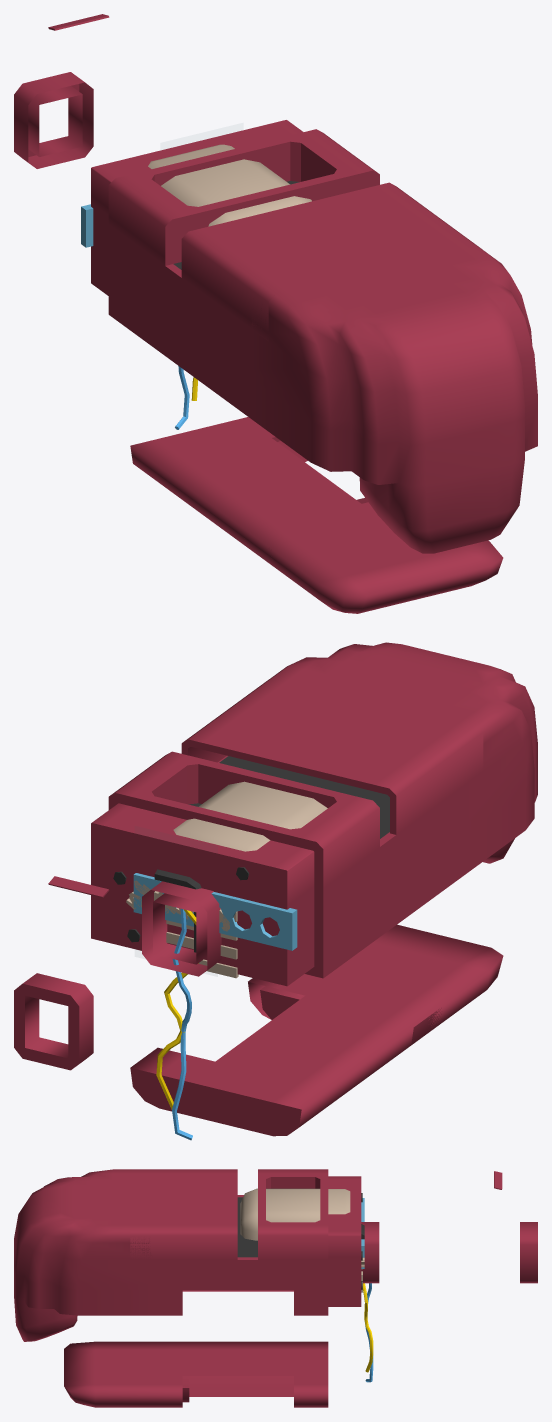
File: asset-fallout-nukacola-94335e.glb
The picture shows the model from 3 angles, top to bottom: view 1: azimuth 30°, elevation 25°; view 2: azimuth 150°, elevation 25°; view 3: azimuth 270°, elevation 25°; orthographic projection. The views are drawn at different scales.
Parts seen in each view (by area): view 1: PropMesh; view 2: PropMesh; view 3: PropMesh.
Boxes of the visible parts, <box> form: PropMesh: <box>14,14,537,613</box>; PropMesh: <box>14,642,537,1140</box>; PropMesh: <box>14,1169,537,1407</box>.
Bounding box in the file's own units: 1.46 × 2.2 × 4.99.
